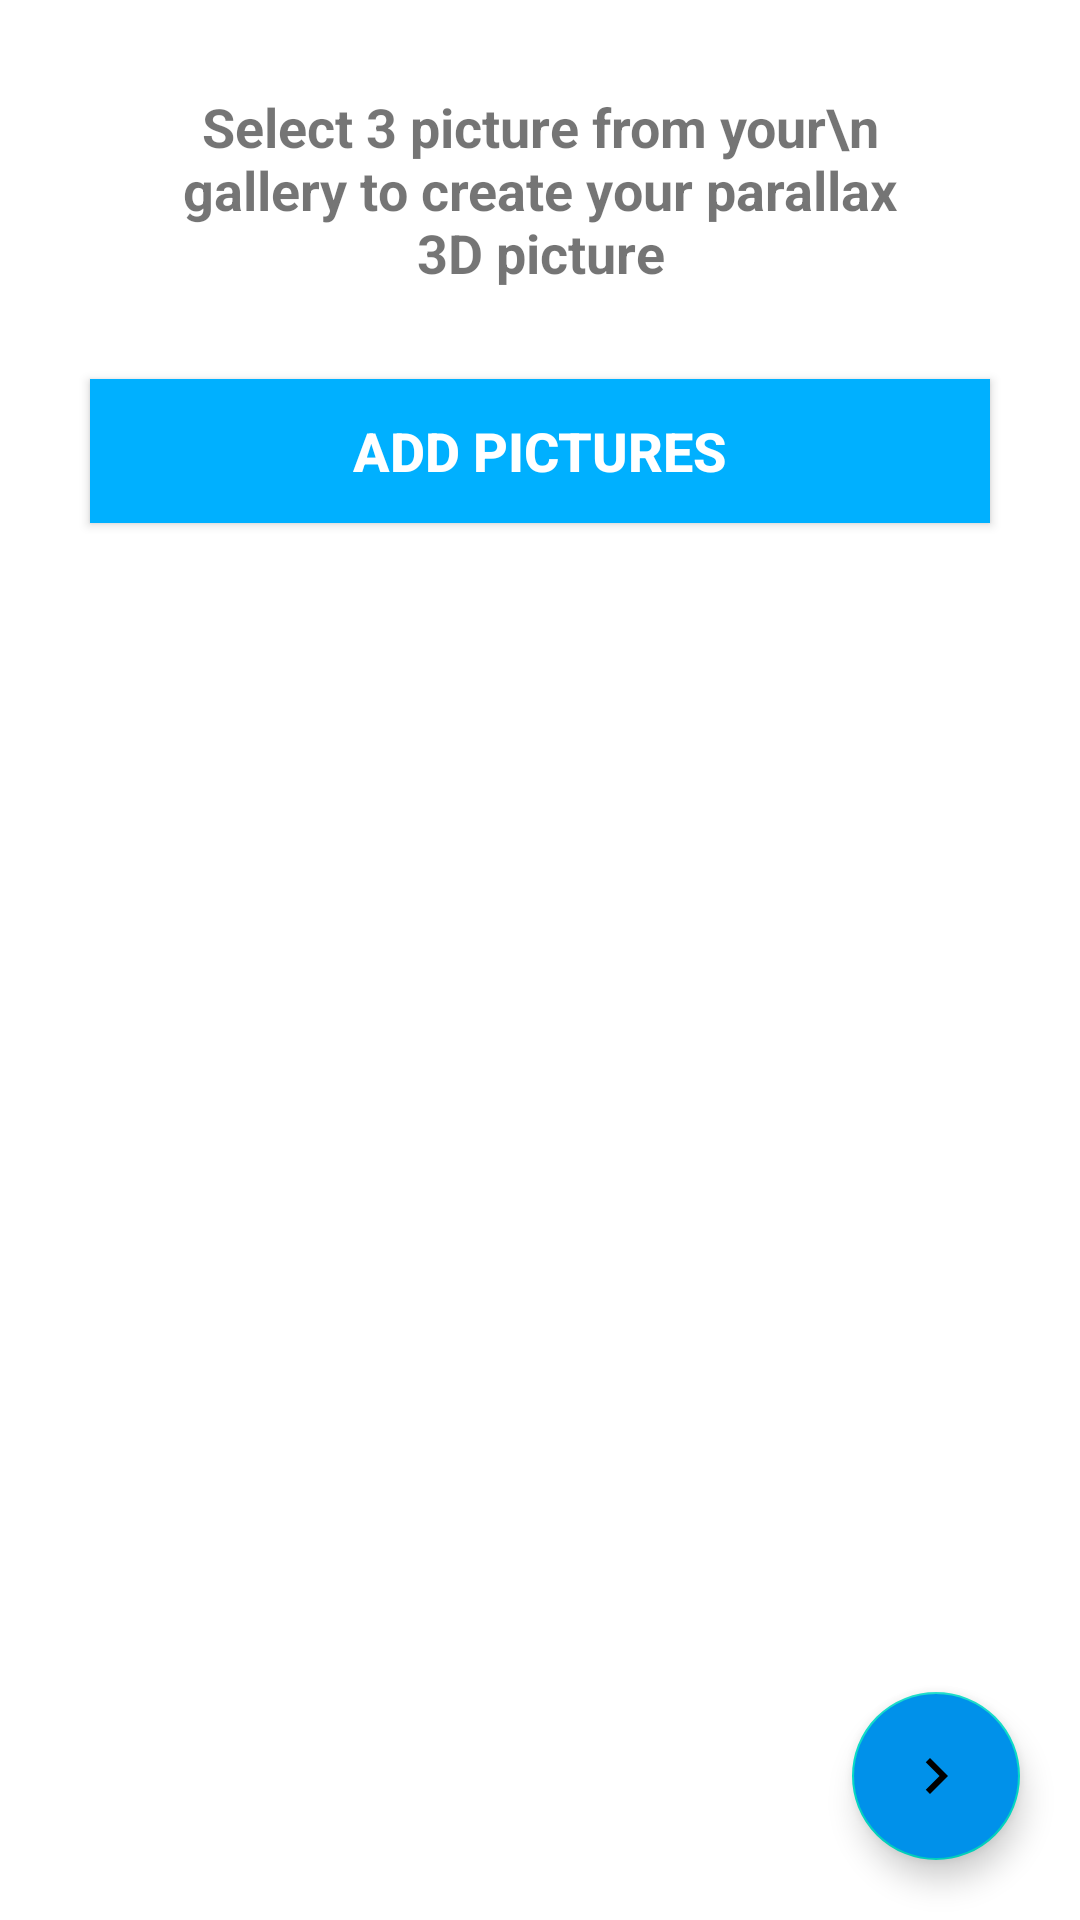

Where to tap for icons on this 1080*1920 app screen, as (x,y):
next: (936,1776)
